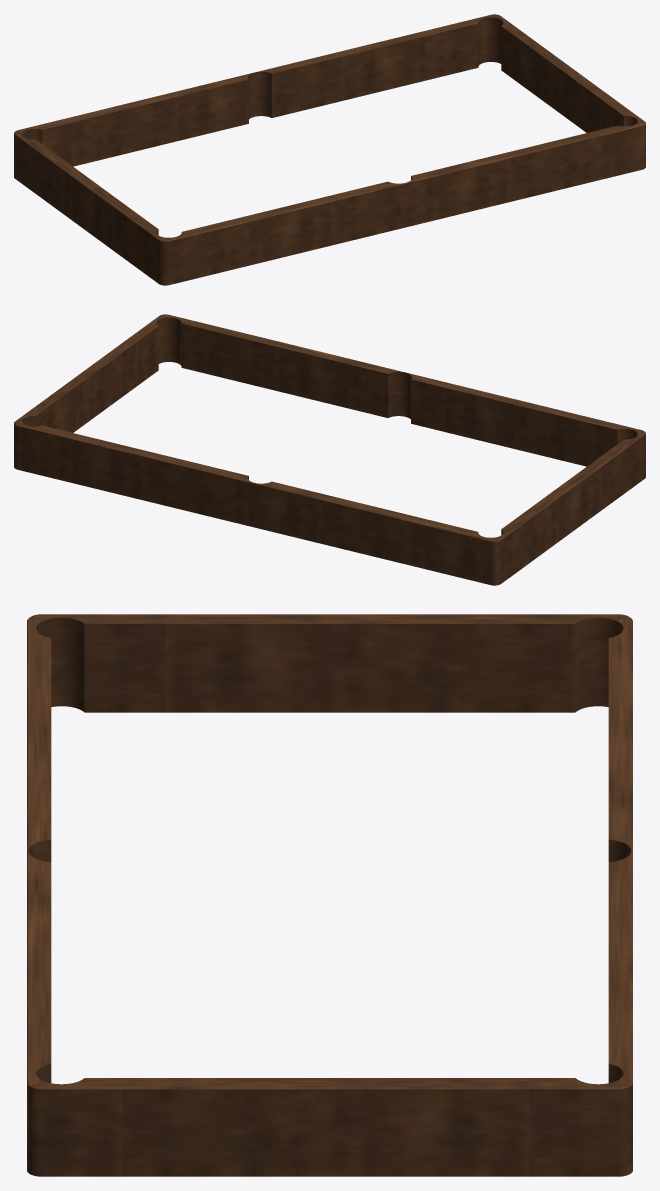
File: rail-pool9ft.glb
The picture shows the model from 3 angles, top to bottom: view 1: azimuth 30°, elevation 25°; view 2: azimuth 150°, elevation 25°; view 3: azimuth 270°, elevation 25°; orthographic projection. The views are drawn at different scales.
Visible parts, largest first — view 1: RailOuter_pool9ft, RailInnerWall, RailTop_pool9ft; view 2: RailOuter_pool9ft, RailInnerWall, RailTop_pool9ft; view 3: RailOuter_pool9ft, RailInnerWall, RailTop_pool9ft.
Part boxes in pixels (<box>): RailOuter_pool9ft: <box>14,124,645,285</box>; RailInnerWall: <box>22,17,637,235</box>; RailTop_pool9ft: <box>14,14,645,241</box>; RailOuter_pool9ft: <box>14,424,645,585</box>; RailInnerWall: <box>22,317,637,535</box>; RailTop_pool9ft: <box>14,314,645,541</box>; RailOuter_pool9ft: <box>27,1084,632,1176</box>; RailInnerWall: <box>28,617,631,1082</box>; RailTop_pool9ft: <box>27,614,632,1089</box>.
Size of the model in its own units: 2.76 by 0.2403 by 1.49.
Materials: 2 (2 with a texture image).
